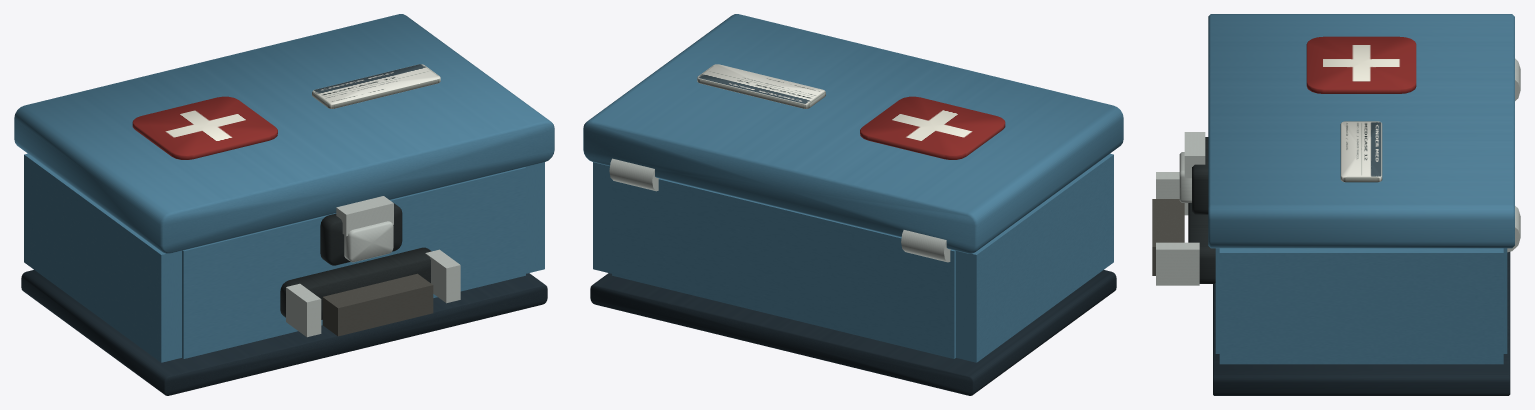
File: PZ_Portable_Medicine_Case.glb
3 views of the same model, side by side, from view 1: azimuth 30°, elevation 25°; view 2: azimuth 150°, elevation 25°; view 3: azimuth 270°, elevation 25° (orthographic). The views are drawn at different scales.
Parts seen in each view (by area): view 1: RENDER_CASE_LidOuterShell, RENDER_CASE_FrontWall, RENDER_CASE_LeftWall, RENDER_CASE_BottomSkid, RENDER_CASE_LidMedicalIcon, RENDER_CASE_CarryHandle, RENDER_CASE_HandleBase, RENDER_CASE_LidModelLabel, RENDER_CASE_RightWall, RENDER_CASE_FrontLatchTongue, RENDER_CASE_HandlePost_-0.044, RENDER_CASE_FrontLatchBezel (+2 smaller); view 2: RENDER_CASE_LidOuterShell, RENDER_CASE_BackWall, RENDER_CASE_LeftWall, RENDER_CASE_BottomSkid, RENDER_CASE_LidMedicalIcon, RENDER_CASE_LidModelLabel, RENDER_CASE_RightWall, RENDER_CASE_BackHingeKnuckle_L, RENDER_CASE_BackHingeKnuckle_R; view 3: RENDER_CASE_LidOuterShell, RENDER_CASE_RightWall, RENDER_CASE_BottomSkid, RENDER_CASE_LidMedicalIcon, RENDER_CASE_LidModelLabel, RENDER_CASE_HandlePost_0.044, RENDER_CASE_CarryHandle, RENDER_CASE_HandleBase, RENDER_CASE_FrontLatchBezel, RENDER_CASE_LidLatchHook, RENDER_CASE_HandlePost_-0.044, RENDER_CASE_BackWall (+2 smaller).
Part boxes in pixels (bbox=[...]): RENDER_CASE_LidOuterShell: bbox=[14, 14, 554, 253]; RENDER_CASE_FrontWall: bbox=[182, 167, 525, 358]; RENDER_CASE_LeftWall: bbox=[24, 153, 181, 362]; RENDER_CASE_BottomSkid: bbox=[21, 270, 547, 395]; RENDER_CASE_LidMedicalIcon: bbox=[132, 96, 277, 159]; RENDER_CASE_CarryHandle: bbox=[322, 273, 433, 336]; RENDER_CASE_HandleBase: bbox=[280, 247, 431, 319]; RENDER_CASE_LidModelLabel: bbox=[312, 64, 440, 108]; RENDER_CASE_RightWall: bbox=[525, 162, 544, 273]; RENDER_CASE_FrontLatchTongue: bbox=[344, 221, 393, 262]; RENDER_CASE_HandlePost_-0.044: bbox=[286, 283, 321, 337]; RENDER_CASE_FrontLatchBezel: bbox=[320, 203, 402, 265]; RENDER_CASE_LidOuterShell: bbox=[583, 14, 1123, 253]; RENDER_CASE_BackWall: bbox=[612, 178, 955, 358]; RENDER_CASE_LeftWall: bbox=[956, 153, 1113, 362]; RENDER_CASE_BottomSkid: bbox=[590, 270, 1116, 395]; RENDER_CASE_LidMedicalIcon: bbox=[860, 96, 1005, 159]; RENDER_CASE_LidModelLabel: bbox=[697, 64, 825, 108]; RENDER_CASE_RightWall: bbox=[593, 162, 611, 273]; RENDER_CASE_BackHingeKnuckle_L: bbox=[901, 230, 950, 262]; RENDER_CASE_BackHingeKnuckle_R: bbox=[609, 158, 659, 191]; RENDER_CASE_LidOuterShell: bbox=[1208, 14, 1514, 248]; RENDER_CASE_RightWall: bbox=[1219, 248, 1503, 364]; RENDER_CASE_BottomSkid: bbox=[1213, 252, 1510, 395]; RENDER_CASE_LidMedicalIcon: bbox=[1306, 36, 1416, 93]; RENDER_CASE_LidModelLabel: bbox=[1340, 121, 1382, 182]; RENDER_CASE_HandlePost_0.044: bbox=[1156, 242, 1199, 285]; RENDER_CASE_CarryHandle: bbox=[1152, 199, 1184, 275]; RENDER_CASE_HandleBase: bbox=[1188, 203, 1215, 283]; RENDER_CASE_FrontLatchBezel: bbox=[1192, 137, 1208, 214]; RENDER_CASE_LidLatchHook: bbox=[1184, 132, 1205, 178]; RENDER_CASE_HandlePost_-0.044: bbox=[1156, 172, 1188, 215]; RENDER_CASE_BackWall: bbox=[1503, 248, 1507, 353].
Size of the model in its own units: 0.249 by 0.1195 by 0.1945.
Materials: 1 (1 with a texture image).
